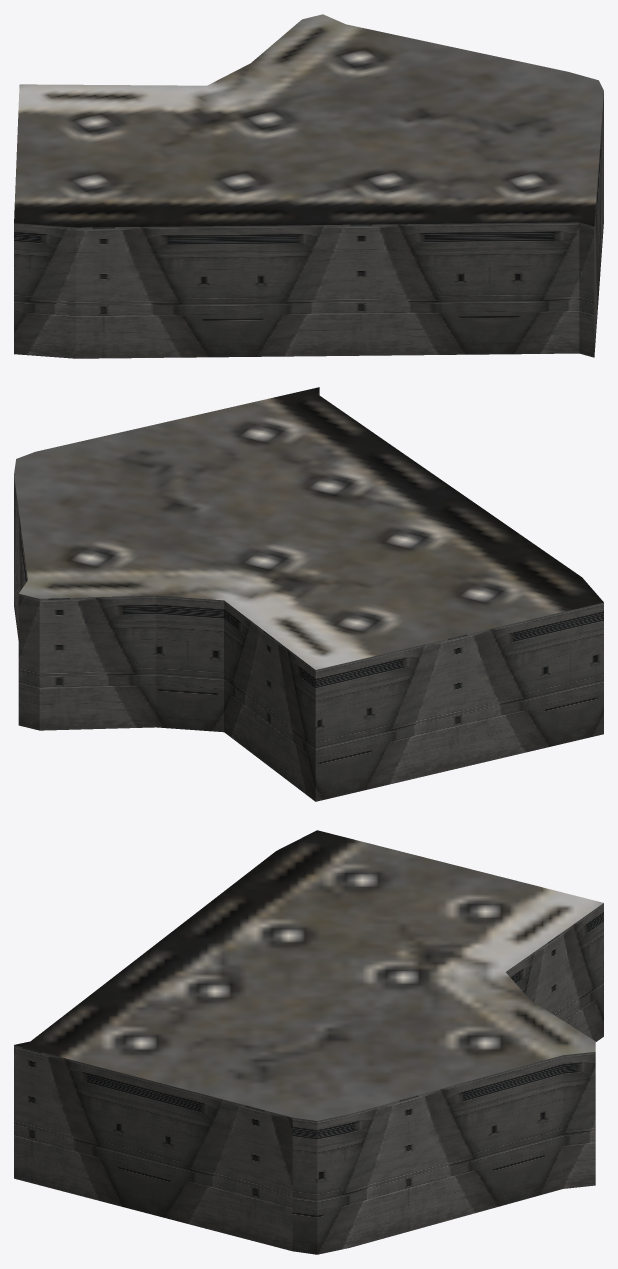
The model's file is fortress_medium_38.glb.
3 renders of one model, top to bottom at view 1: azimuth 30°, elevation 25°; view 2: azimuth 150°, elevation 25°; view 3: azimuth 270°, elevation 25°, orthographic.
Visible parts, largest first — view 1: buildings/saxarba/fortress_medium/fortress_medium_38; view 2: buildings/saxarba/fortress_medium/fortress_medium_38; view 3: buildings/saxarba/fortress_medium/fortress_medium_38.
Boxes of the visible parts, box(x1,y1,x2,y2) form: buildings/saxarba/fortress_medium/fortress_medium_38: box(14, 14, 603, 358); buildings/saxarba/fortress_medium/fortress_medium_38: box(14, 387, 603, 801); buildings/saxarba/fortress_medium/fortress_medium_38: box(14, 830, 603, 1254).
Size of the model in its own units: 84 by 18 by 72.
